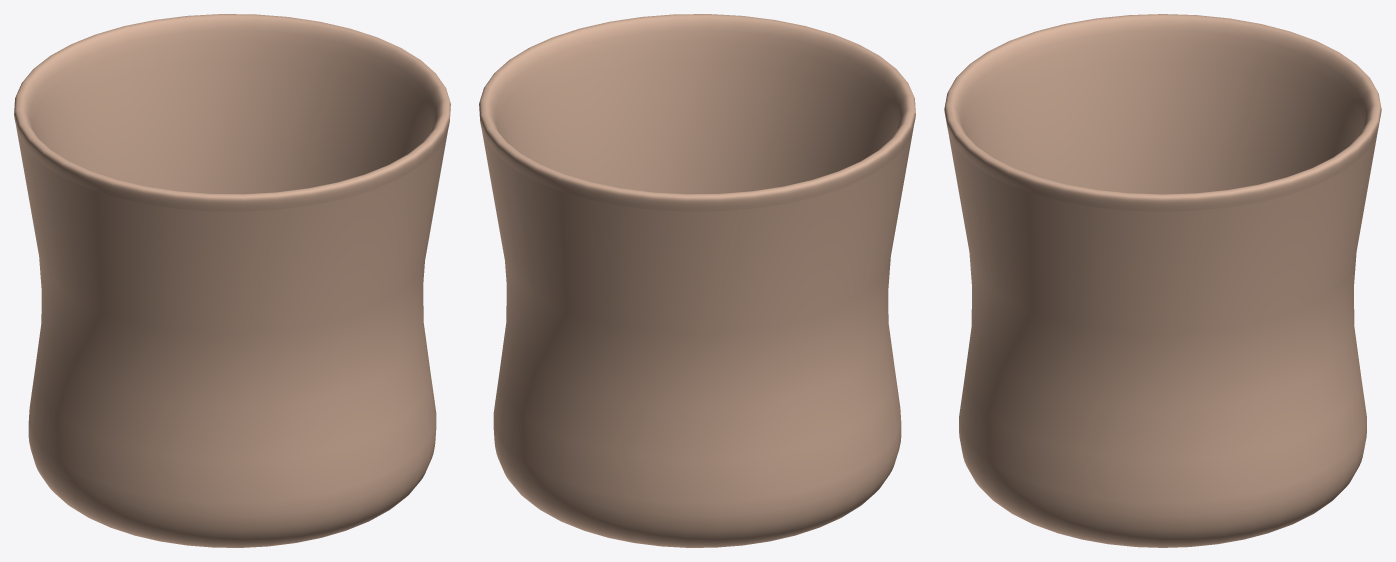
The model's file is CUP FBX.fbx.
3 renders of one model, left to right at view 1: azimuth 30°, elevation 25°; view 2: azimuth 150°, elevation 25°; view 3: azimuth 270°, elevation 25°, orthographic.
Parts seen in each view (by area): view 1: CUP; view 2: CUP; view 3: CUP.
Part boxes in pixels (box(x1,y1,x2,y2)): CUP: box(14, 14, 450, 547); CUP: box(479, 14, 915, 547); CUP: box(944, 14, 1381, 547).
Bounding box in the file's own units: 397 × 385 × 397.
